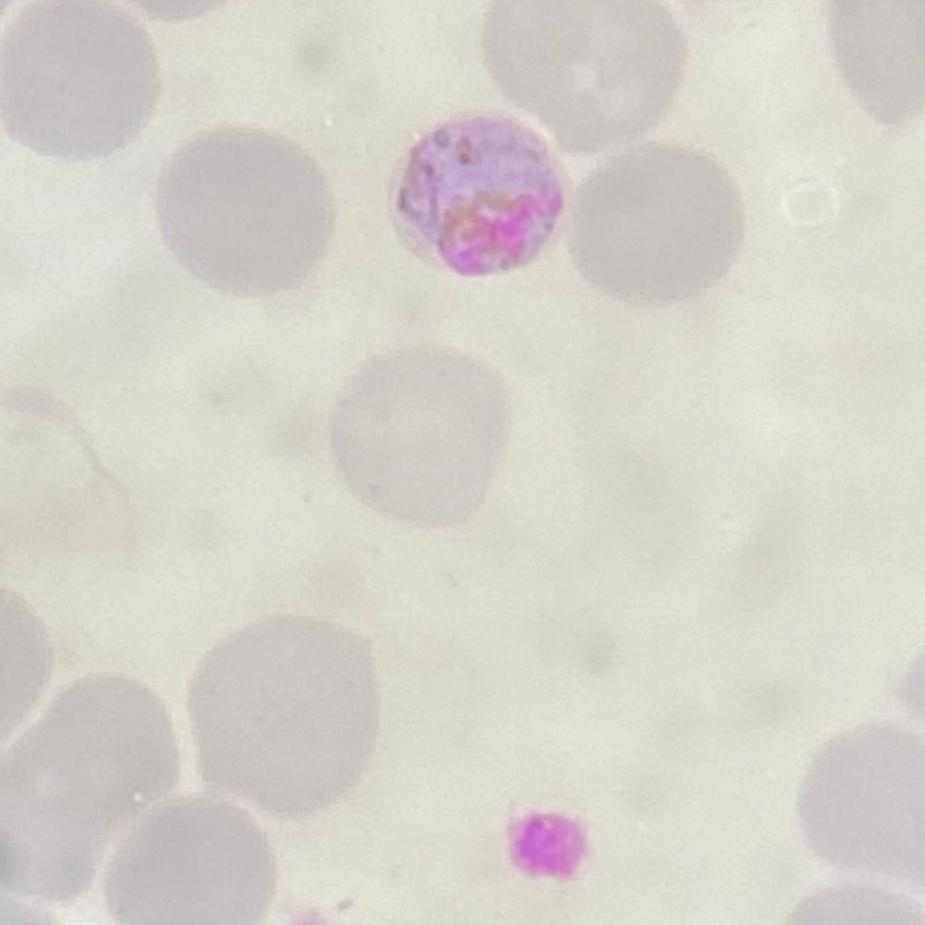Infected: (383, 106, 566, 282)
Uninfected: (7, 673, 179, 906), (185, 618, 378, 817), (323, 346, 511, 530), (480, 0, 689, 159), (153, 123, 331, 295), (572, 143, 742, 315), (1, 0, 160, 158), (800, 718, 924, 901), (100, 796, 272, 925)
